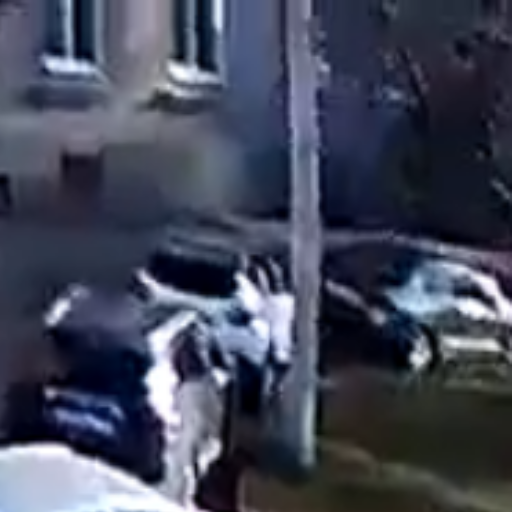Car: (41, 282, 232, 499), (133, 236, 301, 408), (316, 249, 507, 381)
